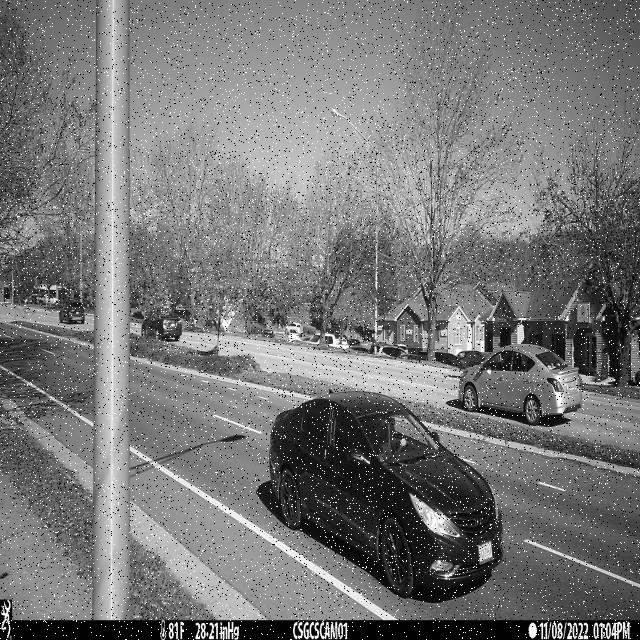Sedan: (268, 387, 505, 597)
